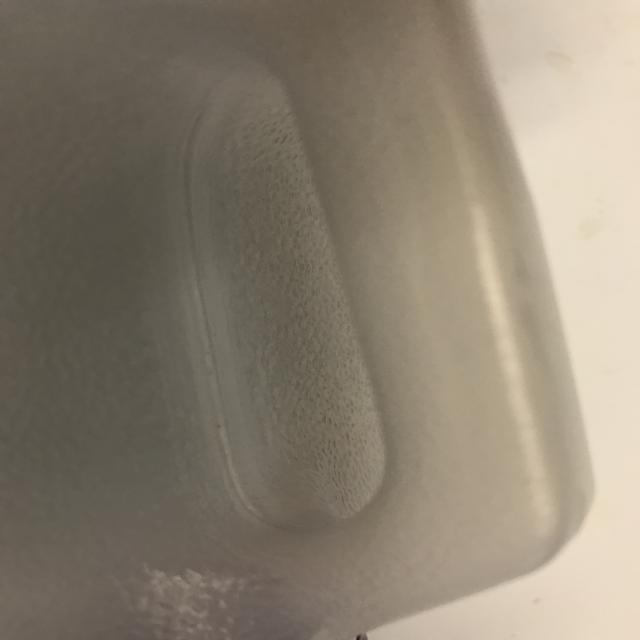plastic: (2, 2, 597, 640)
